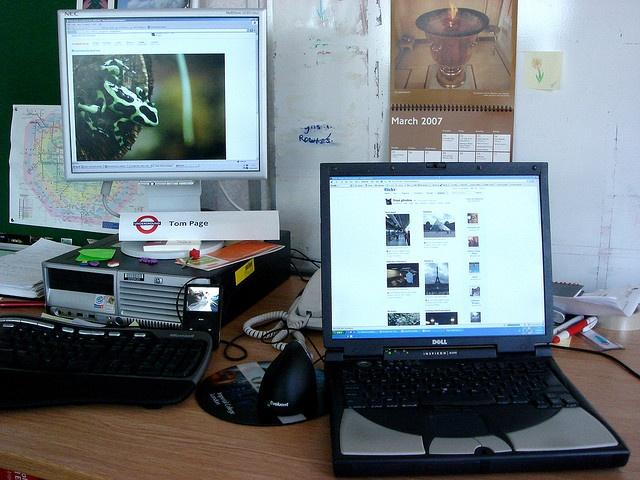AIO PC-Monitor-TV: (54, 6, 268, 182)
